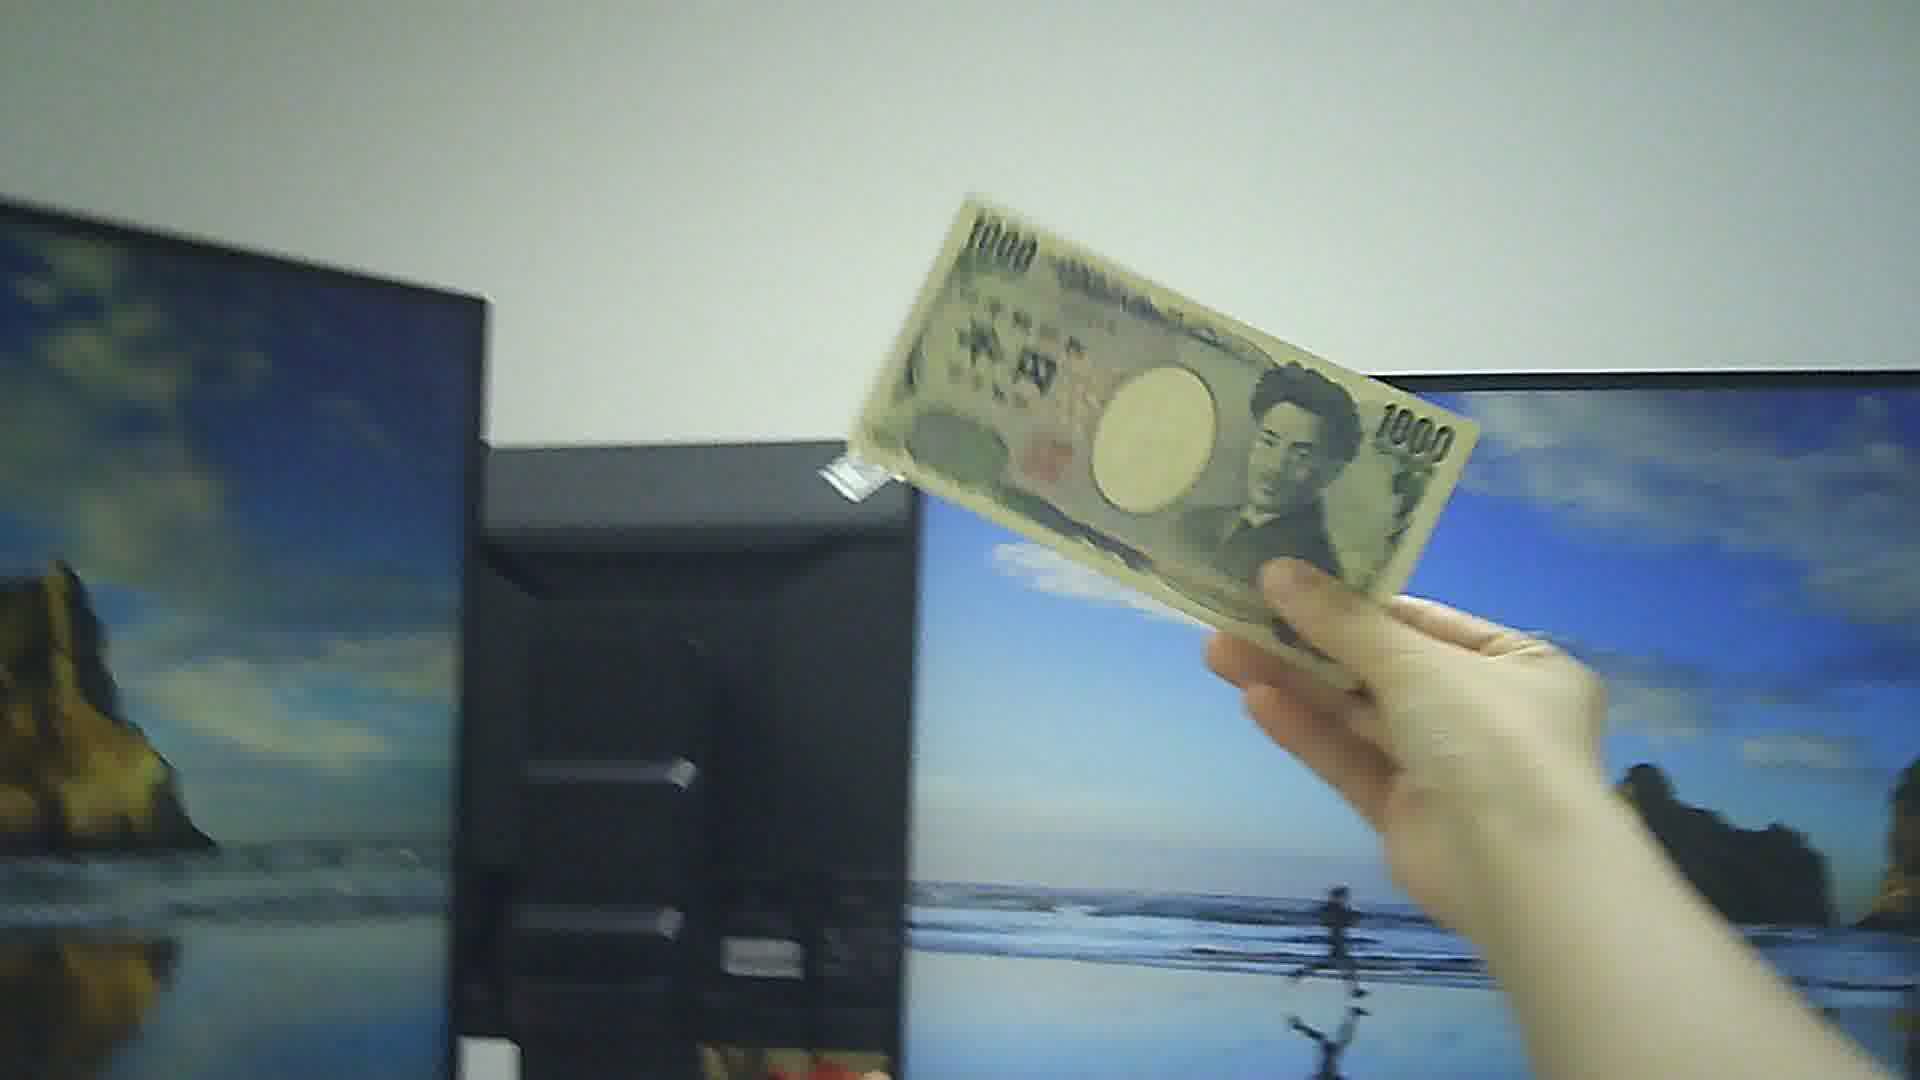1,000 Yen: (864, 194, 1468, 651)
